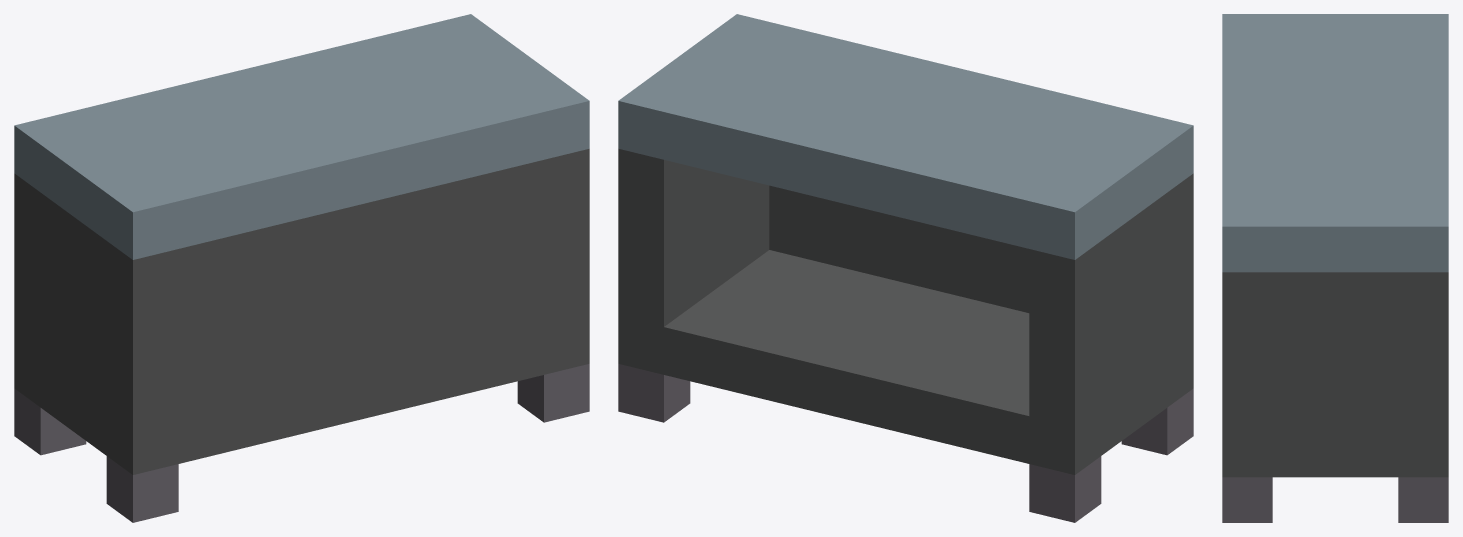
File: wall_doohikey.gltf
3 renders of one model, left to right at view 1: azimuth 30°, elevation 25°; view 2: azimuth 150°, elevation 25°; view 3: azimuth 270°, elevation 25°, orthographic. The views are drawn at different scales.
Parts seen in each view (by area): view 1: Layer.1; view 2: Layer.1; view 3: Layer.1.
Boxes of the visible parts, bbox=[...] form: Layer.1: bbox=[14, 14, 589, 522]; Layer.1: bbox=[618, 14, 1193, 522]; Layer.1: bbox=[1222, 14, 1448, 522].
Bounding box in the file's own units: 20 × 13 × 9.
